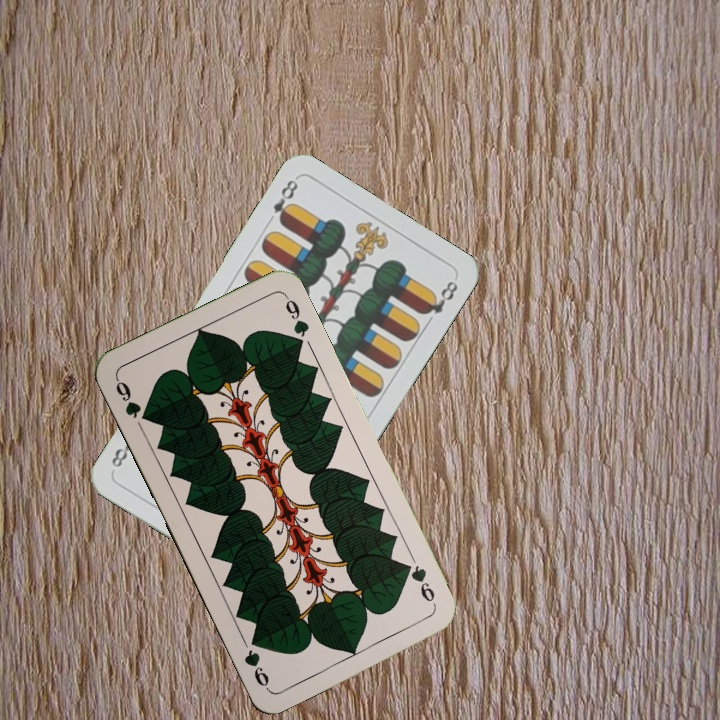E8: (268, 175, 301, 228)
G9: (111, 374, 153, 425), (399, 559, 439, 609)
